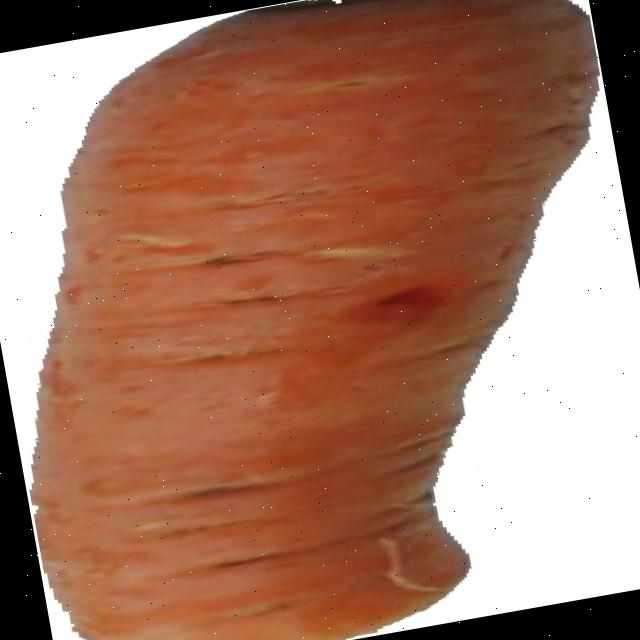carrot: (30, 0, 595, 640)
